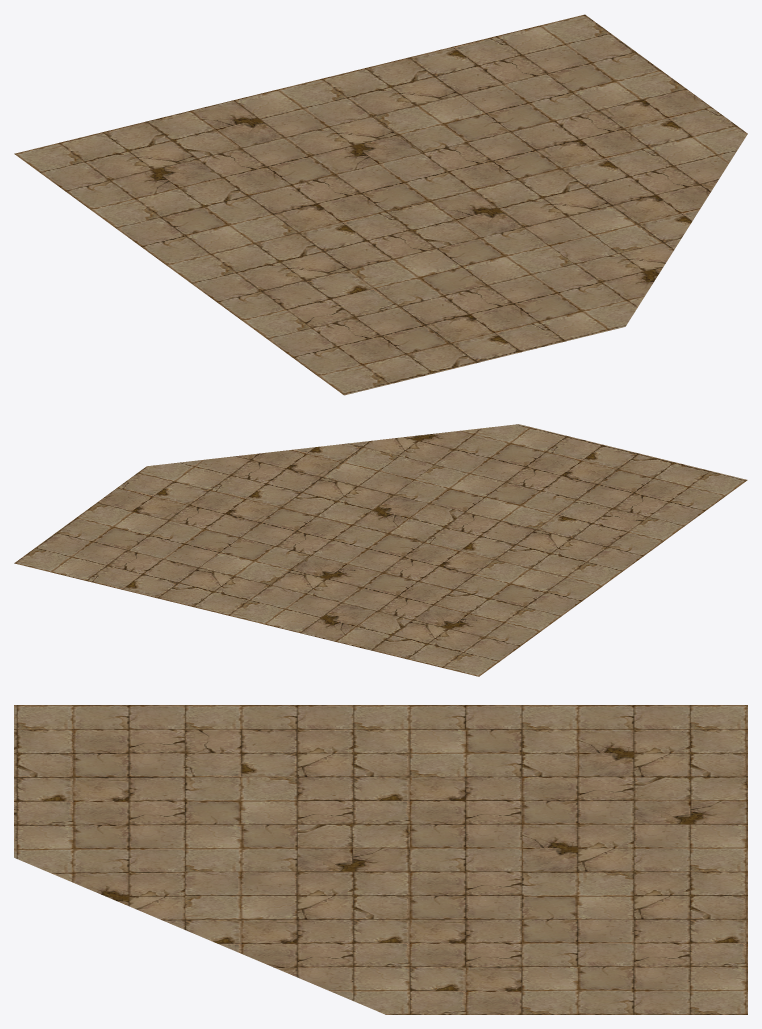
File: Ground01_Terrain_LostTemple_003.FBX
3 renders of one model, top to bottom at view 1: azimuth 30°, elevation 25°; view 2: azimuth 150°, elevation 25°; view 3: azimuth 270°, elevation 25°, orthographic. The views are drawn at different scales.
Parts seen in each view (by area): view 1: Ground01_Terrain_LostTemple_003; view 2: Ground01_Terrain_LostTemple_003; view 3: Ground01_Terrain_LostTemple_003.
Part boxes in pixels (x1,y1,x2,y2): Ground01_Terrain_LostTemple_003: (14, 14, 747, 395); Ground01_Terrain_LostTemple_003: (14, 424, 747, 676); Ground01_Terrain_LostTemple_003: (14, 705, 747, 1014).
Size of the model in its own units: 1308 by 0.000109 by 1310.
1 material, 1 textured.
